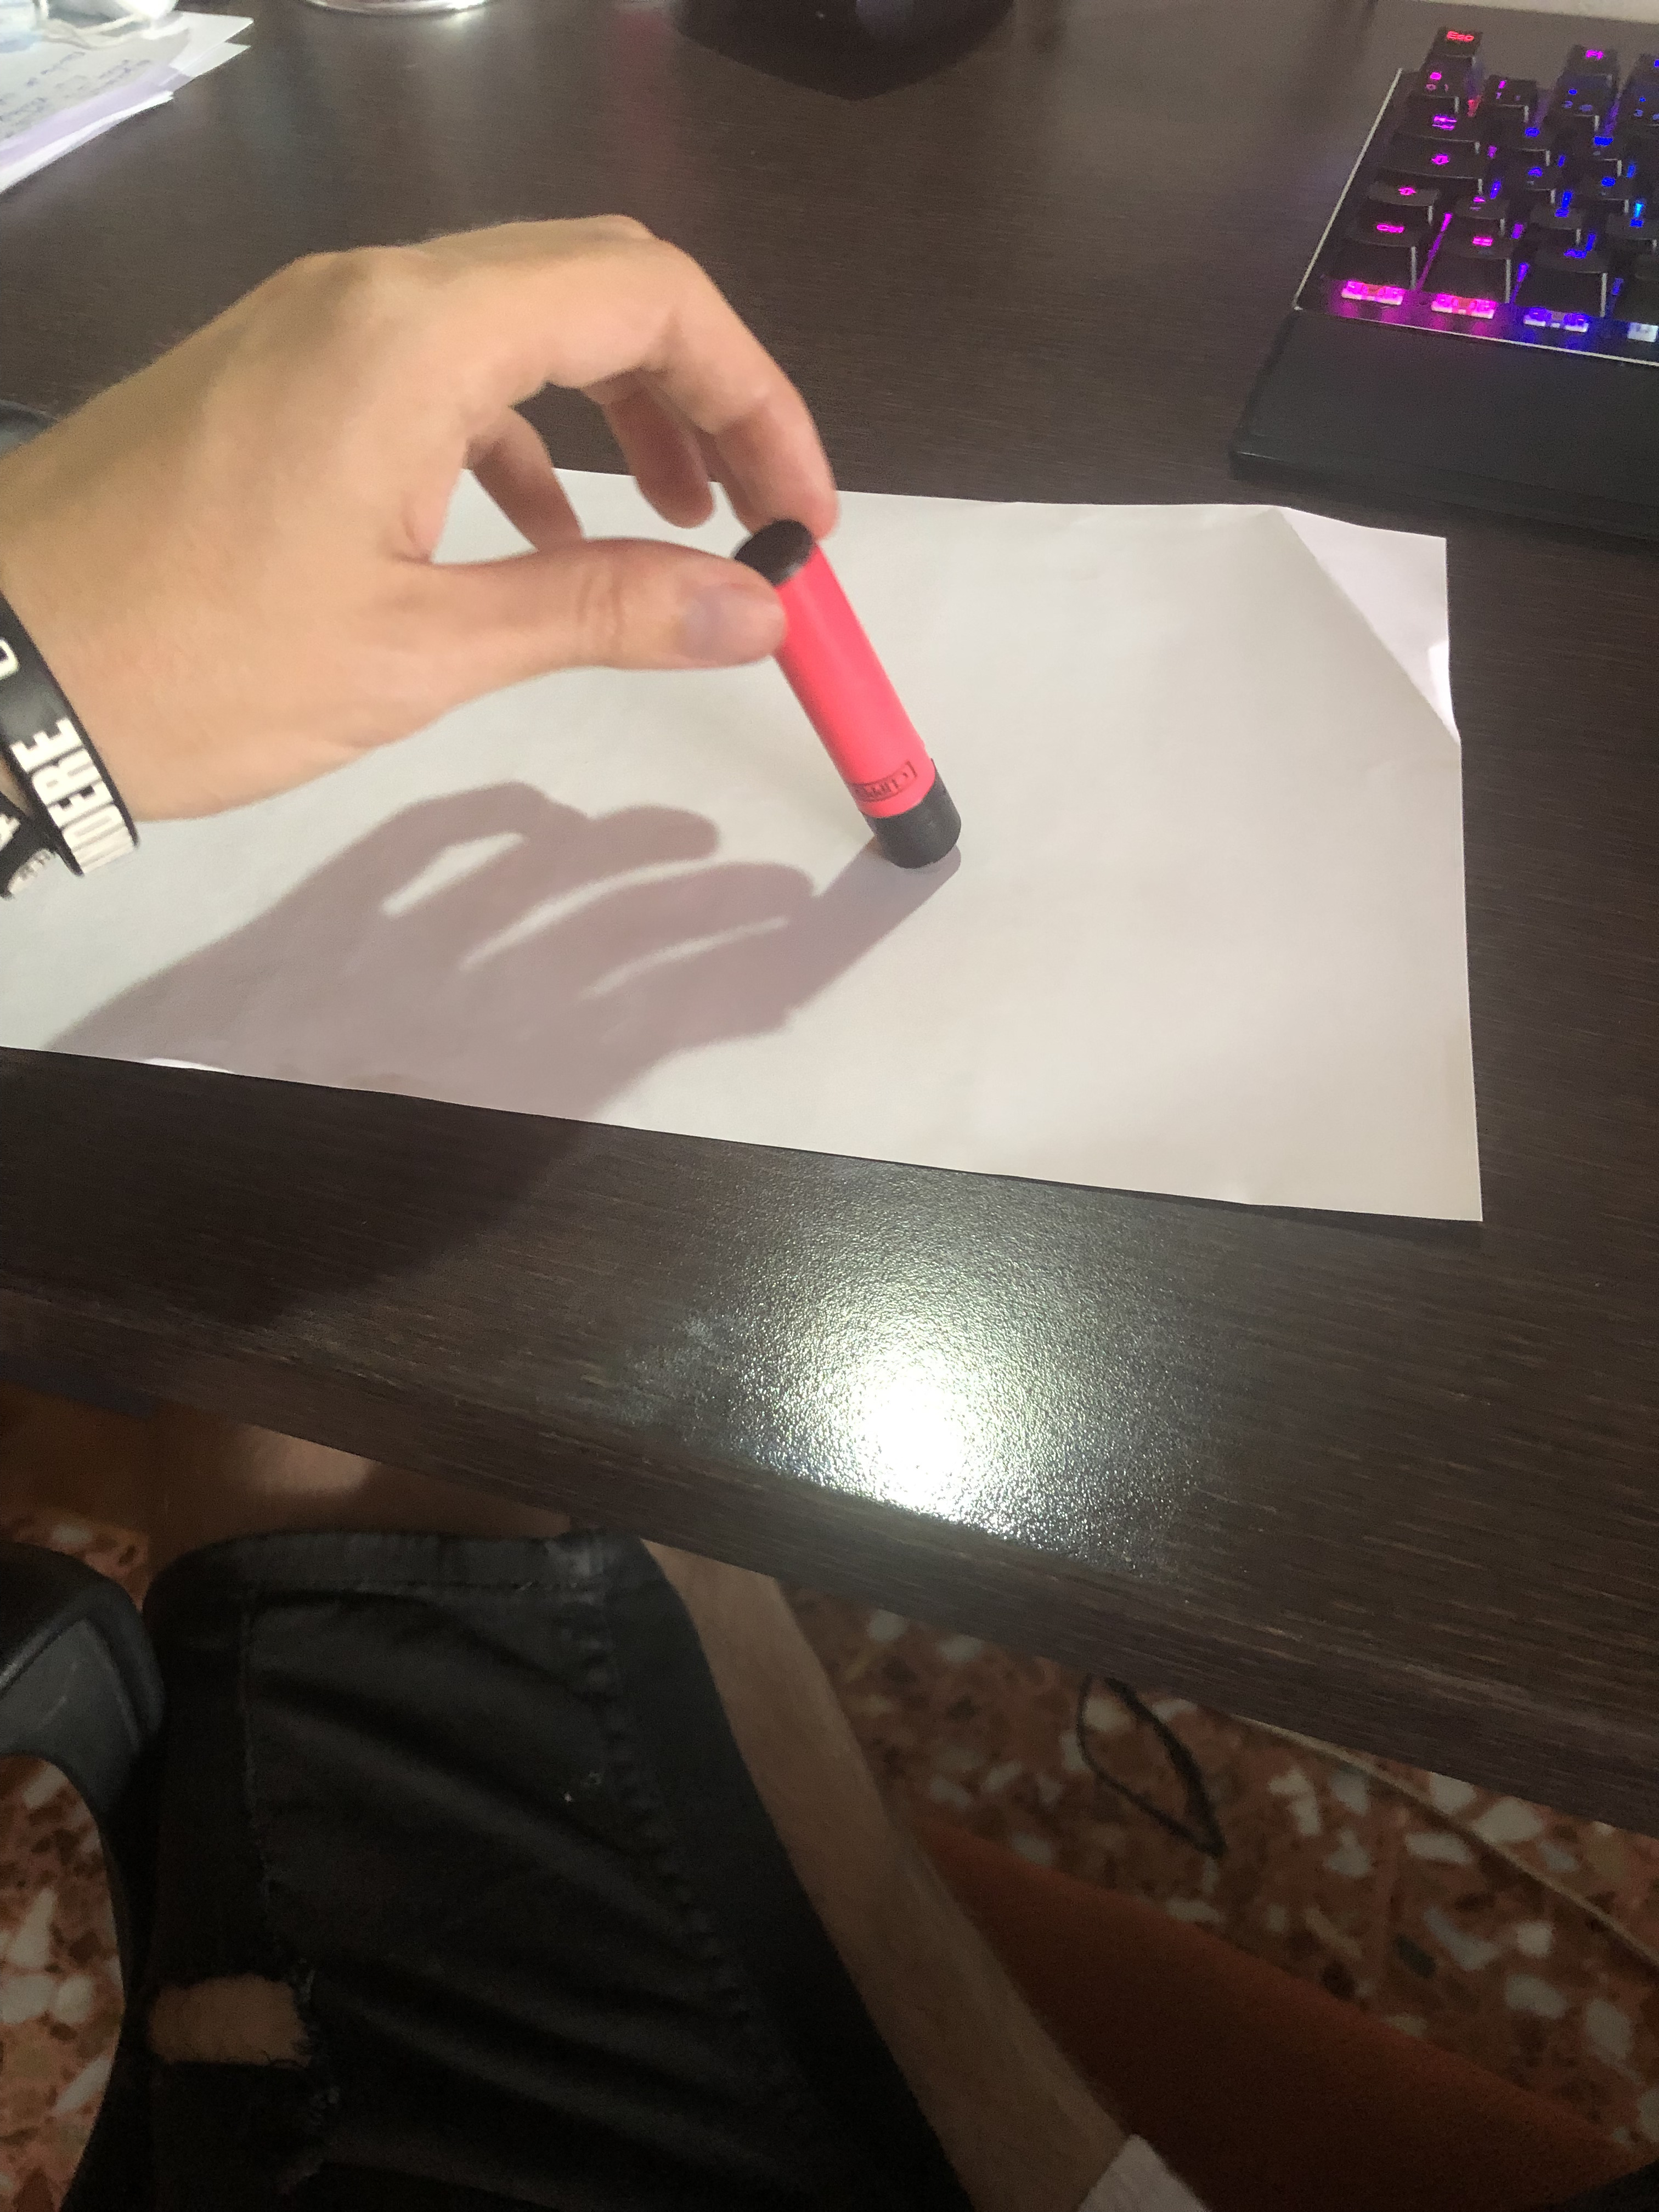Mechero: (727, 521, 993, 885)
